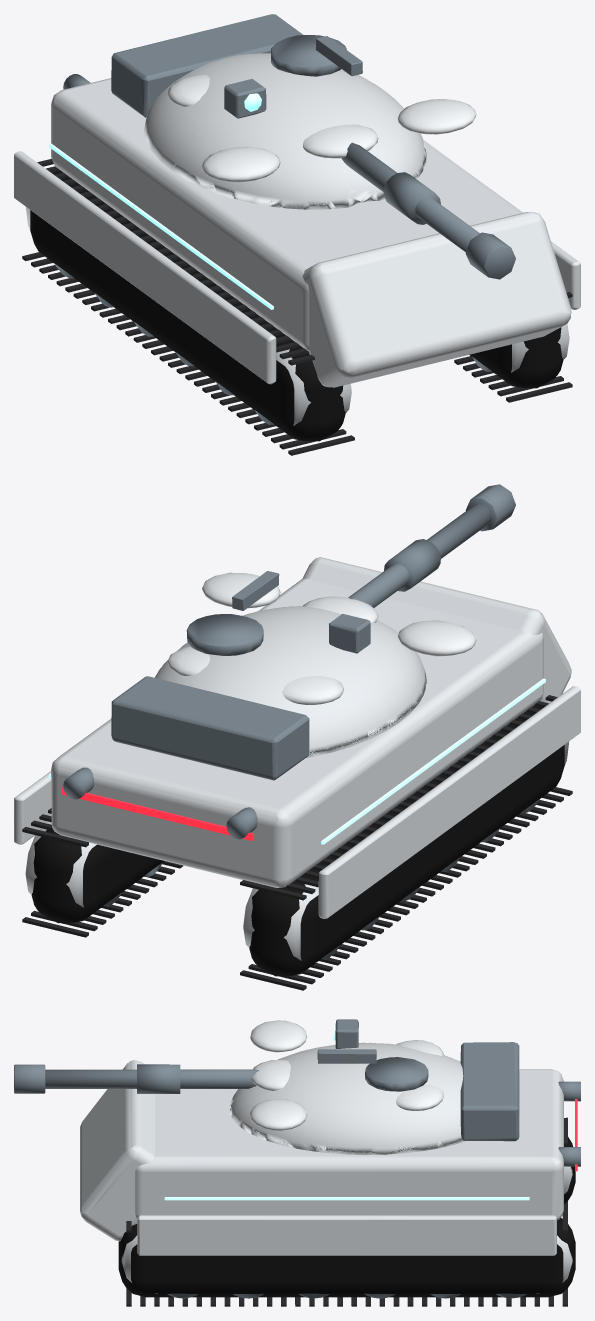
Rendered from kampvogn_arktis.glb.
3 renders of one model, top to bottom at view 1: azimuth 30°, elevation 25°; view 2: azimuth 150°, elevation 25°; view 3: azimuth 270°, elevation 25°, orthographic. The views are drawn at different scales.
Parts seen in each view (by area): view 1: krop_net; view 2: krop_net; view 3: krop_net.
Part boxes in pixels (x1,y1,x2,y2): krop_net: (14,14,580,455); krop_net: (14,484,580,990); krop_net: (14,1019,580,1306).
Size of the model in its own units: 1.17 by 0.9364 by 2.23.
